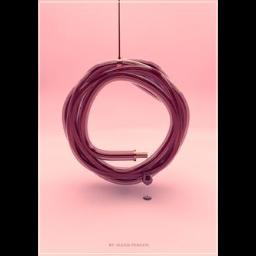o: (56, 51, 196, 191)
